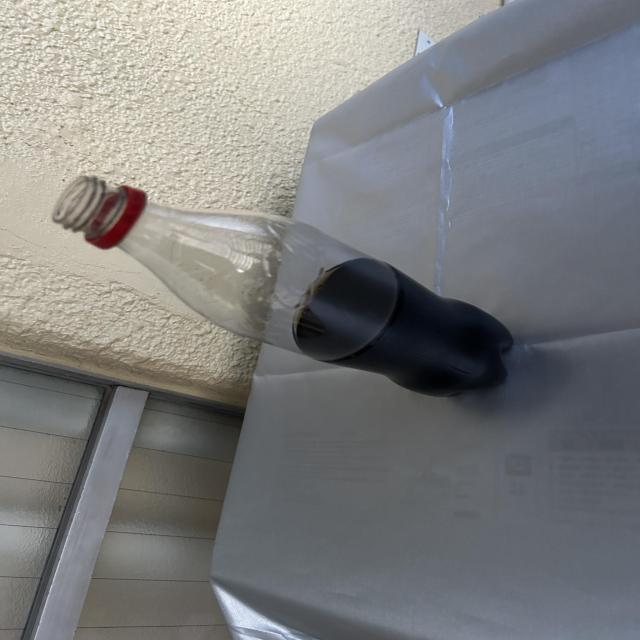medium: (52, 176, 512, 396)
